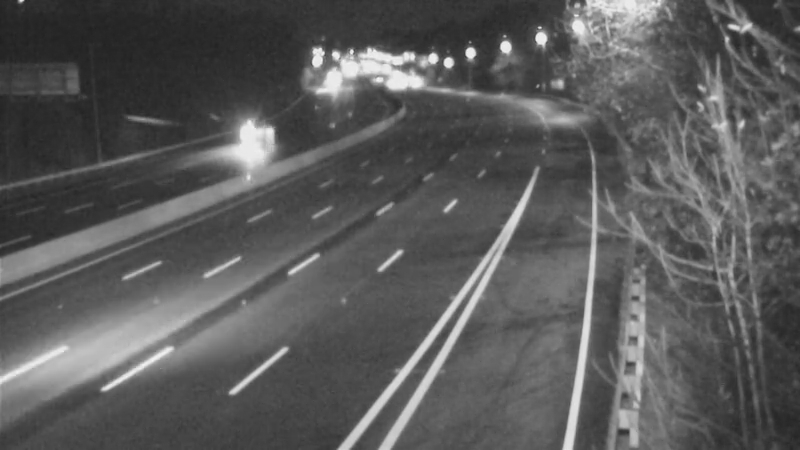vehicle: (228, 114, 278, 164)
